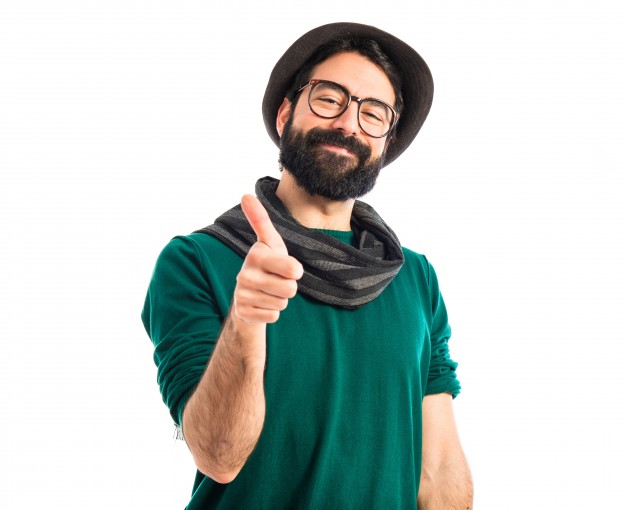thumbsup: (233, 194, 304, 324)
